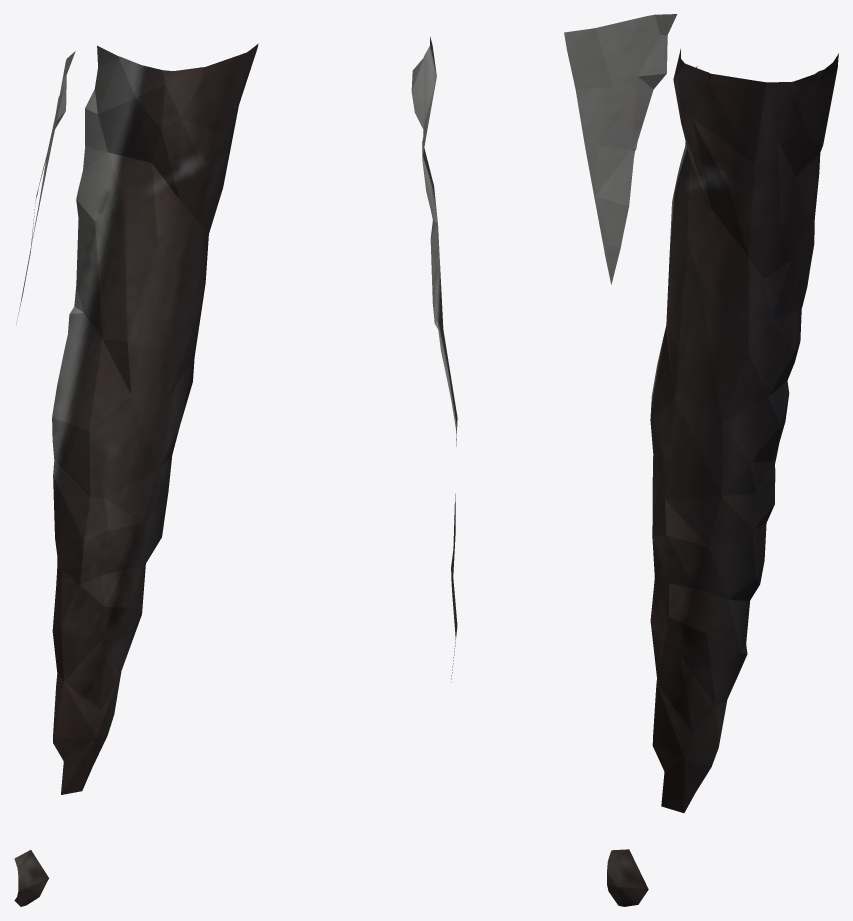
3 renders of one model, left to right at view 1: azimuth 30°, elevation 25°; view 2: azimuth 150°, elevation 25°; view 3: azimuth 330°, elevation 25°, orthographic. The views are drawn at different scales.
Size of the model in its own units: 0.1912 by 0.7105 by 0.075.
1 material, 1 textured.
